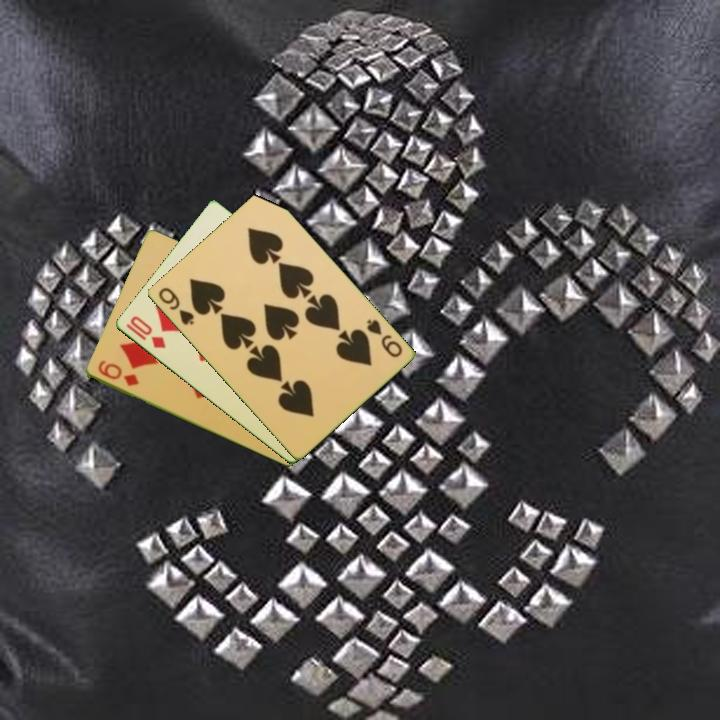10d: (122, 312, 168, 352)
6d: (94, 357, 142, 389)
9s: (362, 315, 405, 360), (154, 284, 197, 328)
